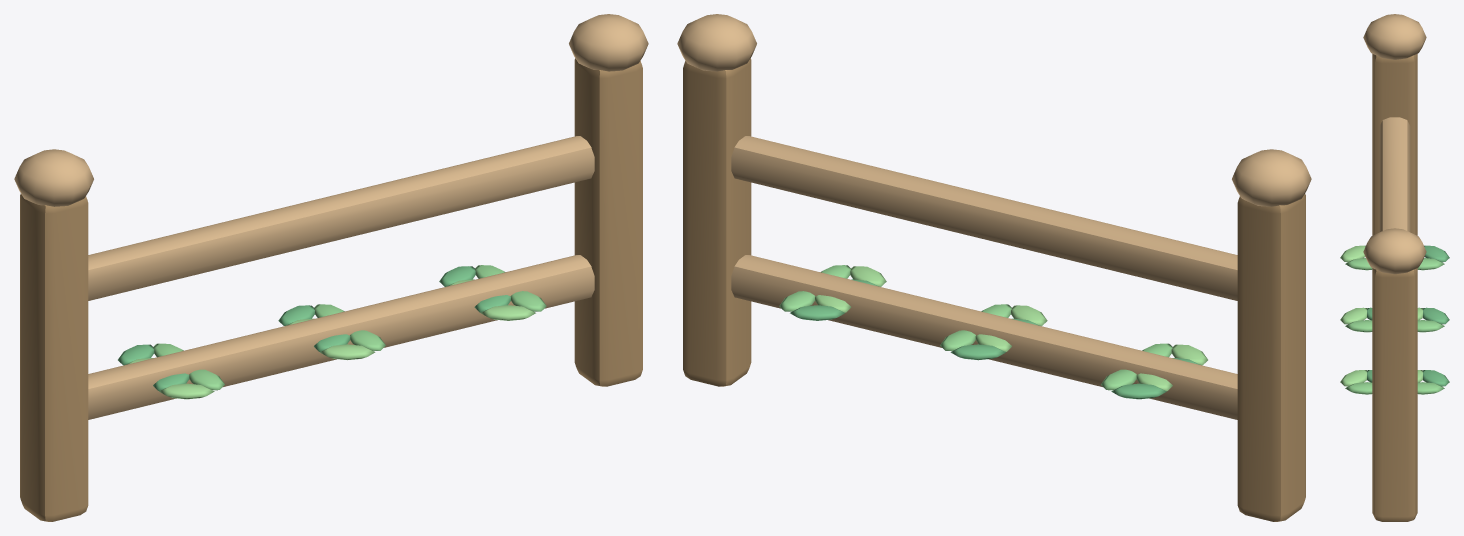
File: fence_summer_v1.glb
3 views of the same model, side by side, from view 1: azimuth 30°, elevation 25°; view 2: azimuth 150°, elevation 25°; view 3: azimuth 270°, elevation 25° (orthographic). The views are drawn at different scales.
Size of the model in its own units: 2.25 by 1.23 by 0.4328.
